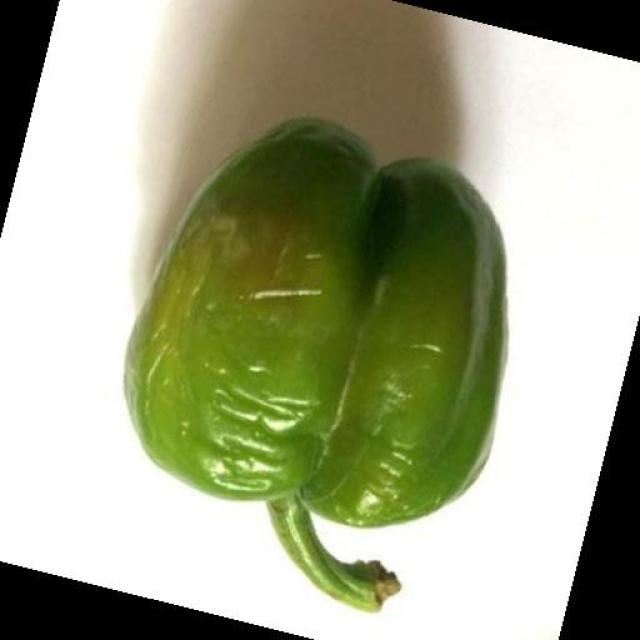Stale_Capsicum: (113, 95, 528, 640)
